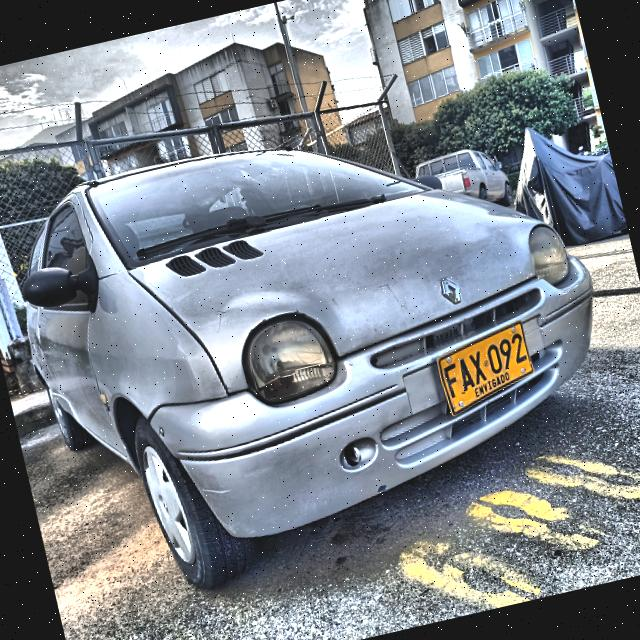0: (483, 341, 504, 376)
2: (508, 330, 528, 366)
9: (497, 335, 516, 371)
A: (455, 356, 476, 393)
F: (442, 358, 461, 399)
X: (466, 348, 488, 386)
